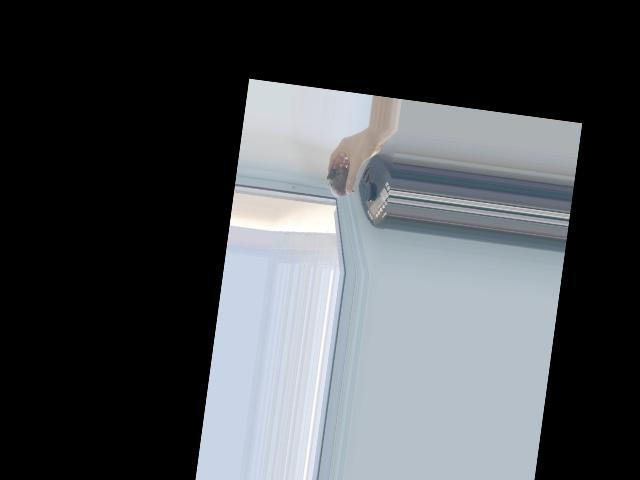beet: (324, 161, 359, 199)
